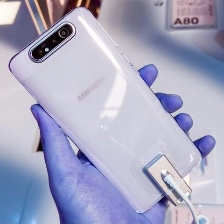phone: (5, 2, 205, 216)
